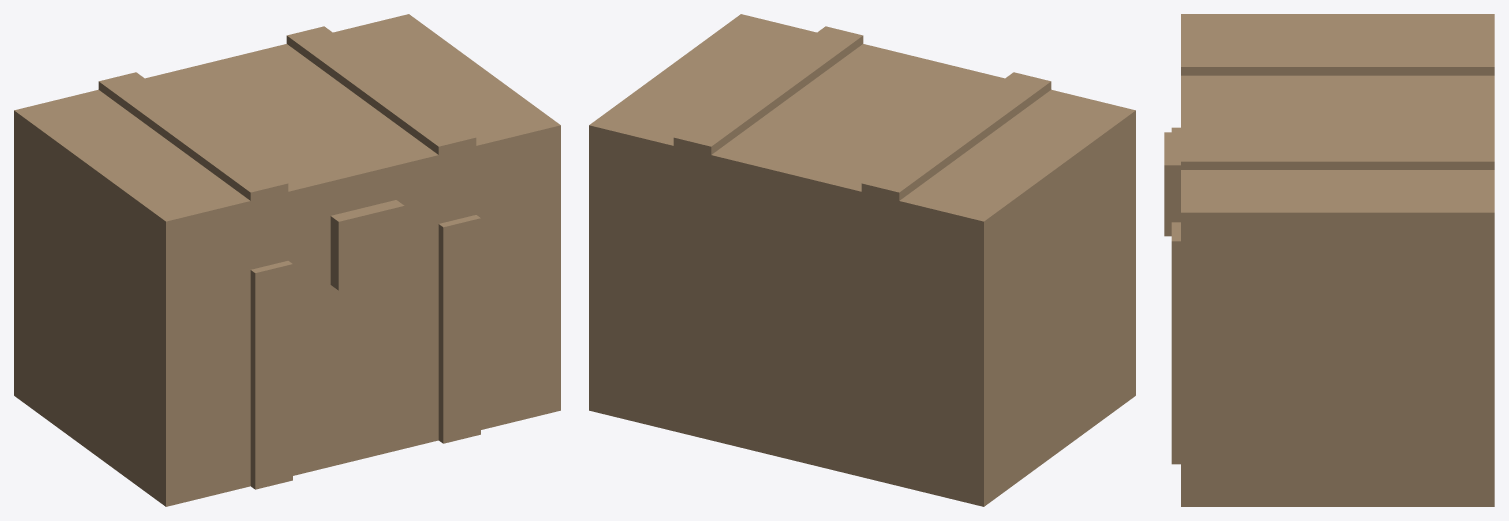
The model's file is chest.gltf.
The picture shows the model from 3 angles, left to right: view 1: azimuth 30°, elevation 25°; view 2: azimuth 150°, elevation 25°; view 3: azimuth 270°, elevation 25°; orthographic projection. The views are drawn at different scales.
Size of the model in its own units: 0.336 by 0.2388 by 0.236.
